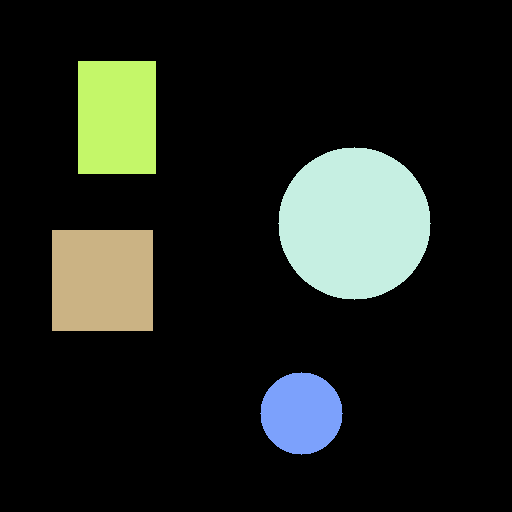circle: (278, 147, 430, 299), (260, 372, 342, 454)
rectangle: (78, 61, 155, 173)
square: (52, 230, 152, 330)
